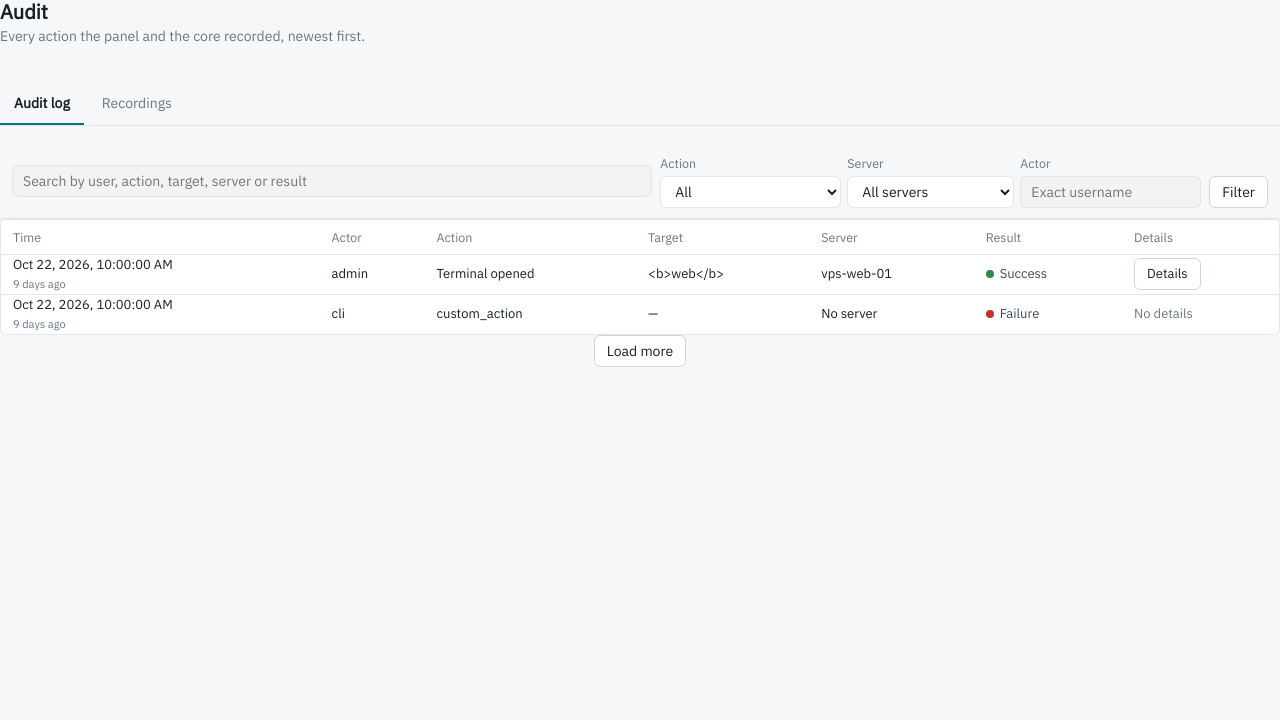
it: Audit › lists events newest first, translates known actions and renders details as text
Expected: the text "Terminal opened" is shown, [424, 254, 636, 294]
Expected: the text "custom_action" is shown, [424, 294, 636, 334]
Click the button "Details" at (1167, 274), box [1134, 258, 1200, 290]
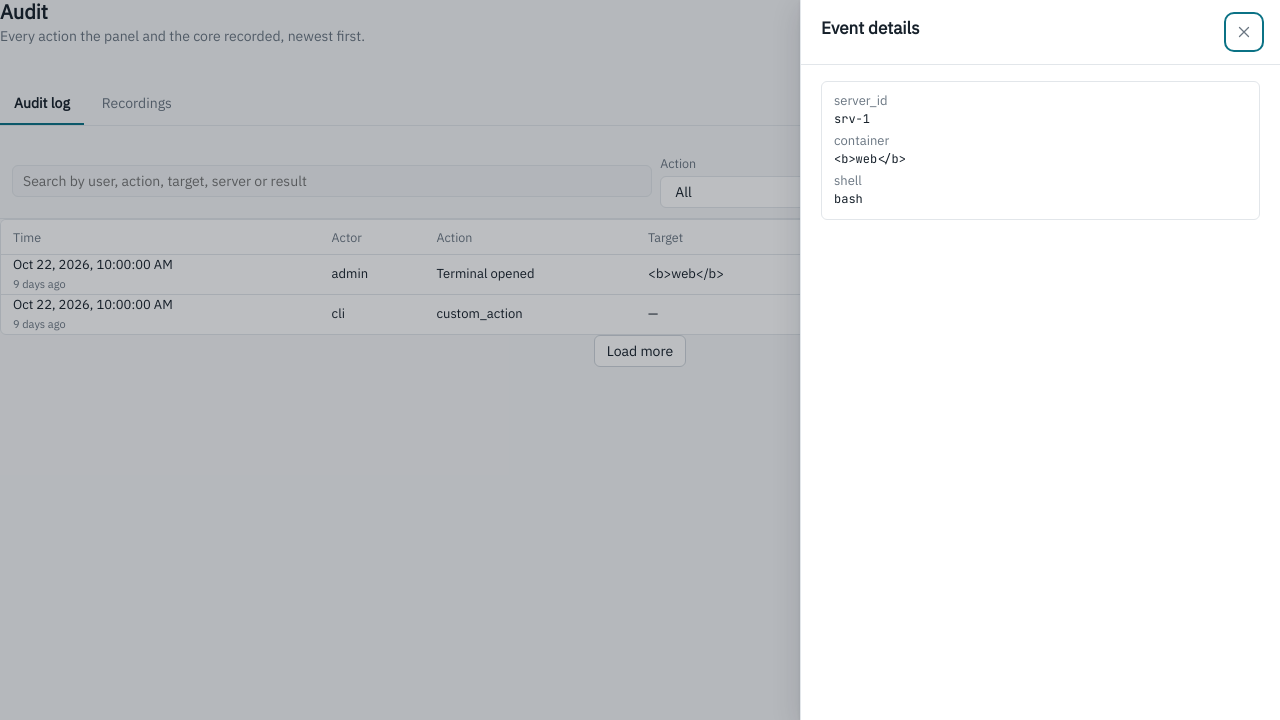
Expected: the text "<b>web</b>" is shown, [834, 151, 906, 167]
Expected: the text "bash" is shown, [834, 191, 863, 207]
